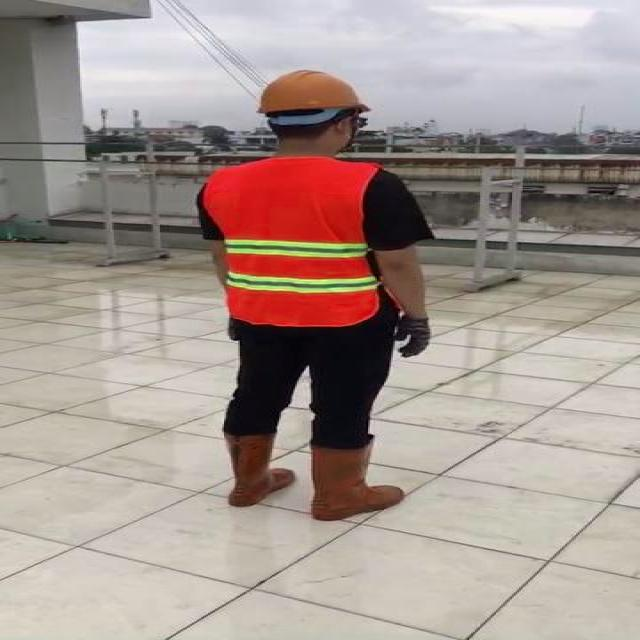boots: (309, 438, 407, 522), (222, 431, 297, 506)
hand_glove: (384, 313, 432, 358)
head_helmet: (253, 68, 371, 114)
person: (187, 64, 441, 528)
vest: (197, 156, 395, 325)
